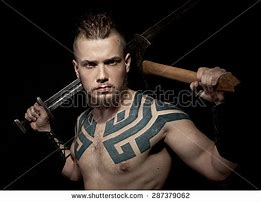axe: (131, 34, 240, 95)
